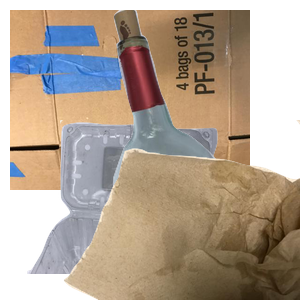cardboard: (10, 10, 250, 190)
glass: (89, 10, 300, 190)
plastic: (25, 120, 245, 300)
trash: (60, 120, 300, 300)
